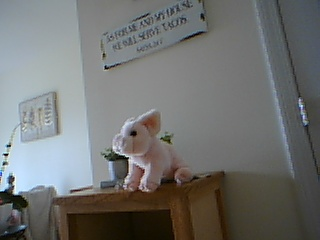piggy: (112, 108, 194, 193)
